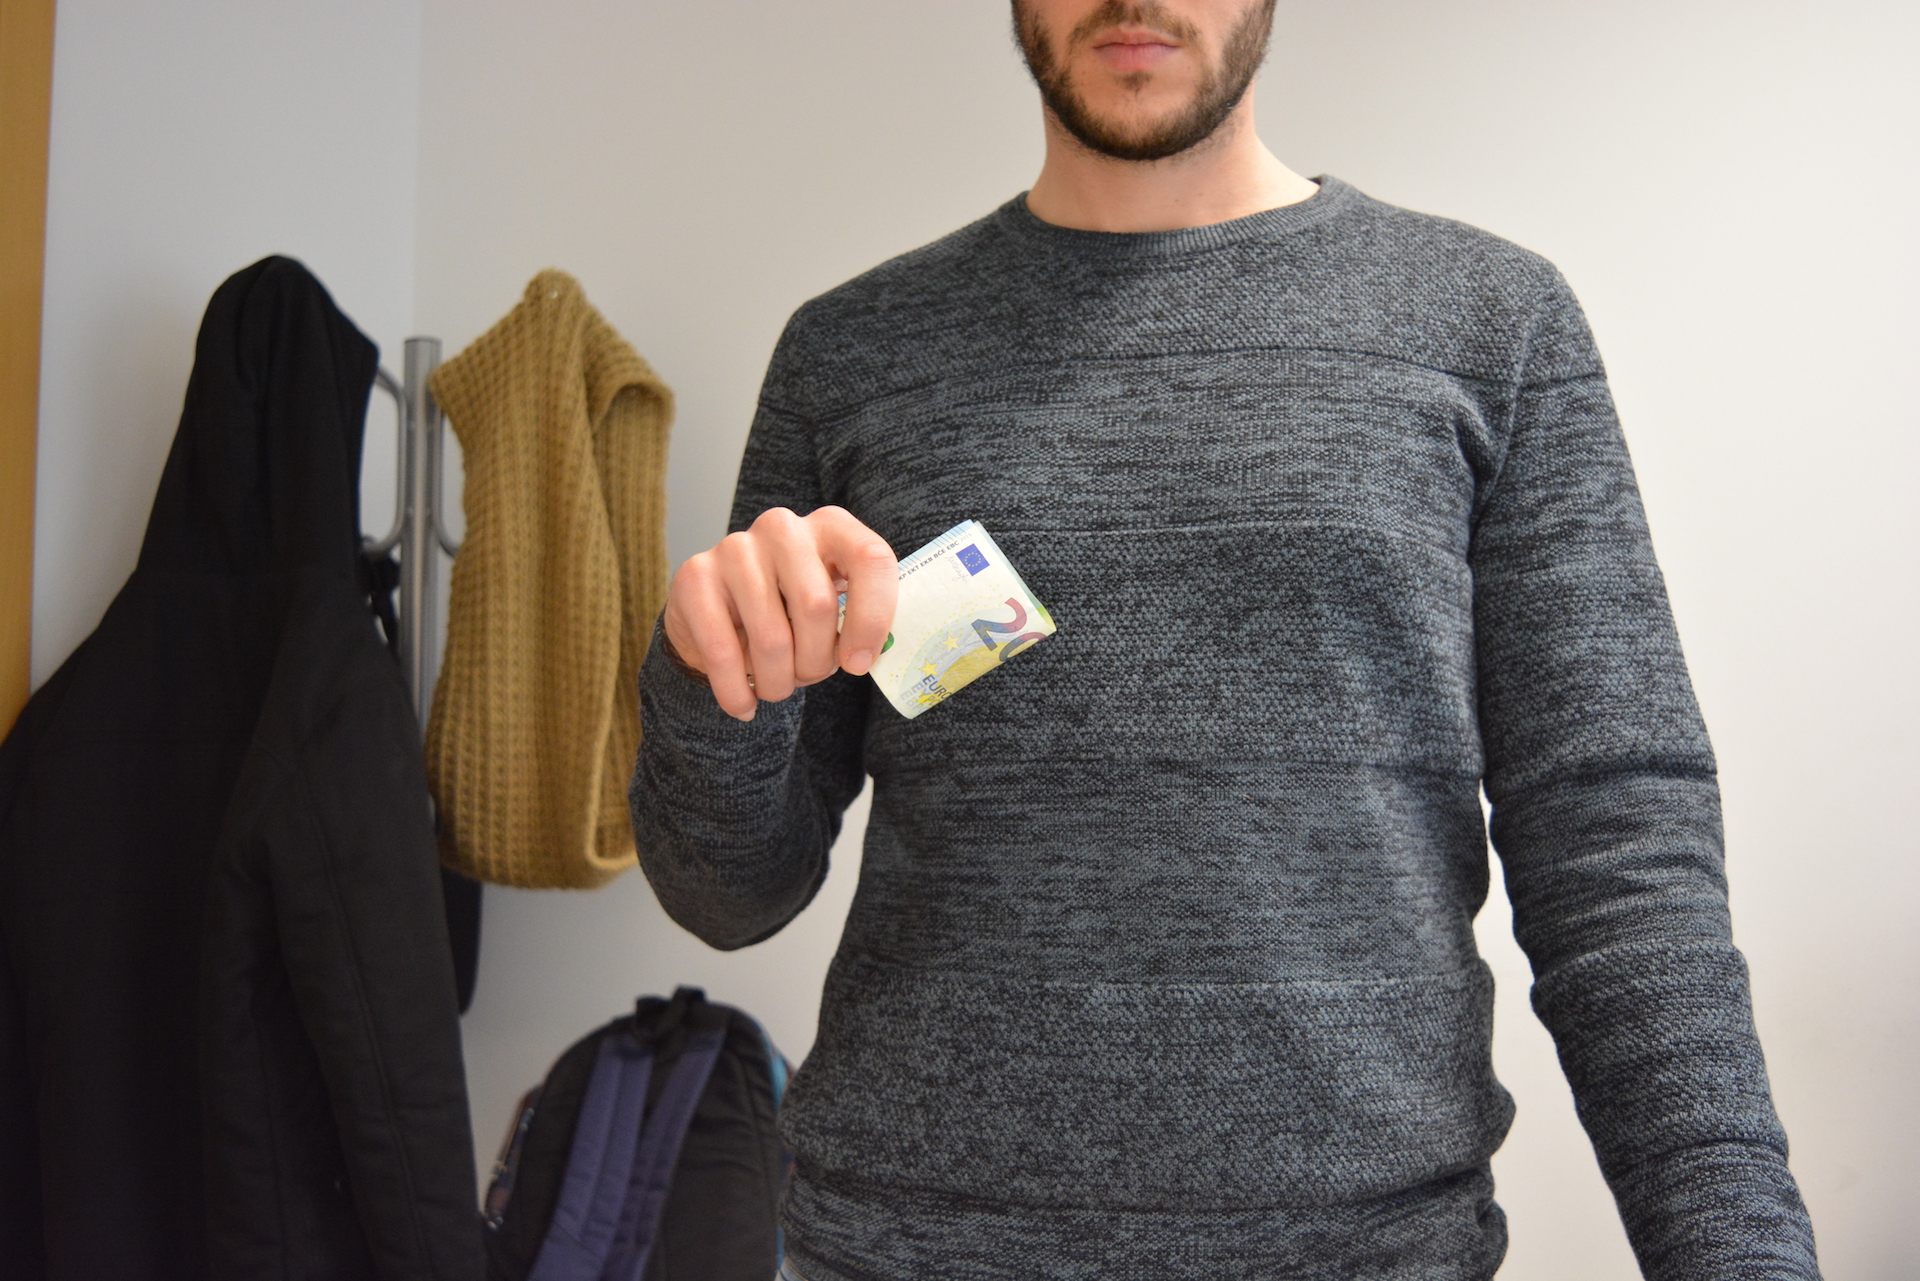billete: (831, 518, 1059, 721)
